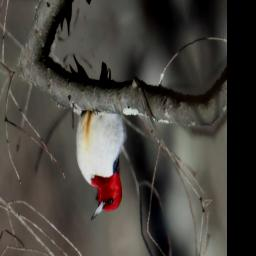Woodpecker: (51, 34, 144, 223)
